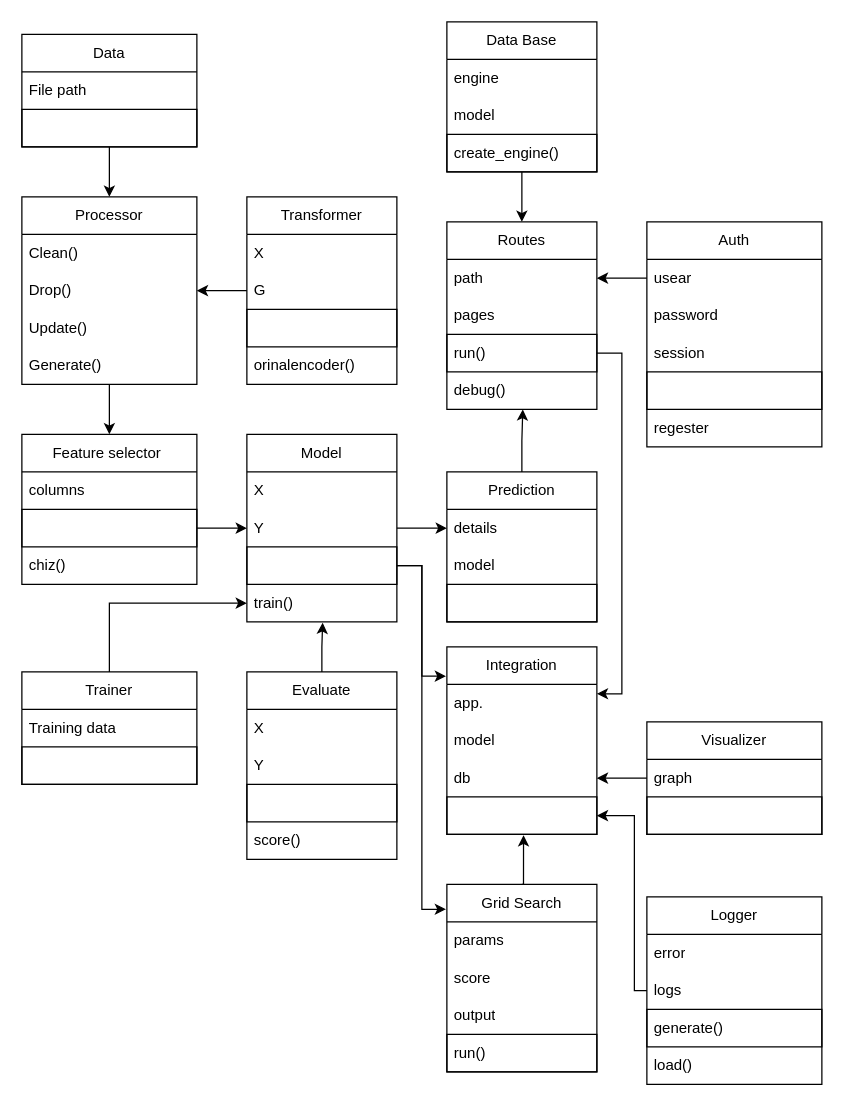
The diagram is 844 pixels wide and 1106 high, and some of its shapes have lost their labels. The shapes that lost their labels are listed below. From the top down, each one's centre as x and y in pixels, then its label:
the point at 109,127: get data()
the point at 321,327: hotencode()
the point at 734,390: login()
the point at 109,527: selectBest()
the point at 321,565: getModel()
the point at 521,602: predict()
the point at 109,765: fit()
the point at 321,802: split()
the point at 521,815: executeApp()
the point at 734,815: generat()
